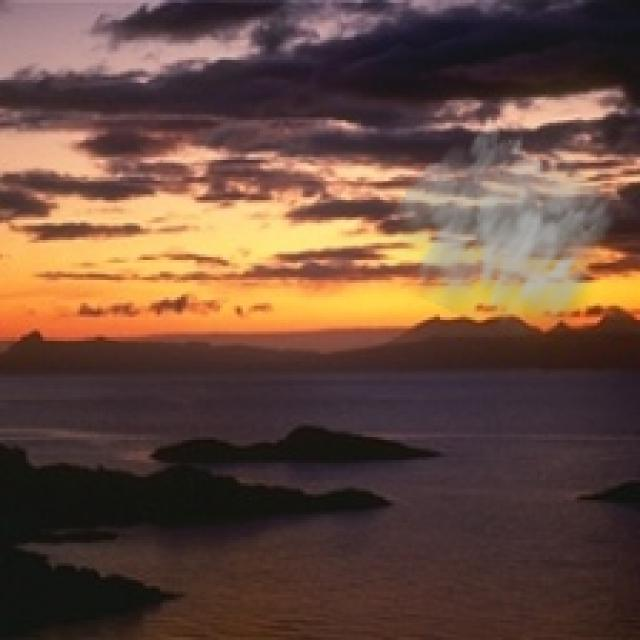smoke: (383, 120, 626, 357)
